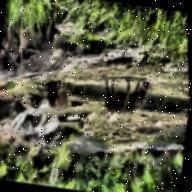boar: (100, 75, 153, 117)
